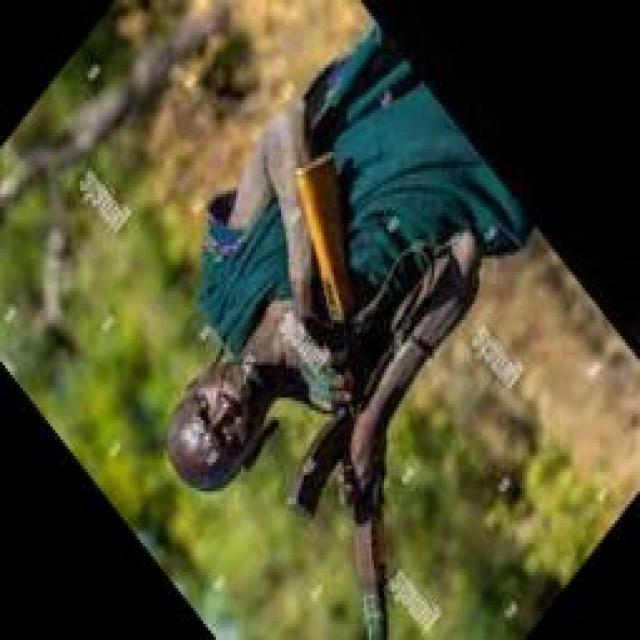weapon: (286, 153, 388, 640)
